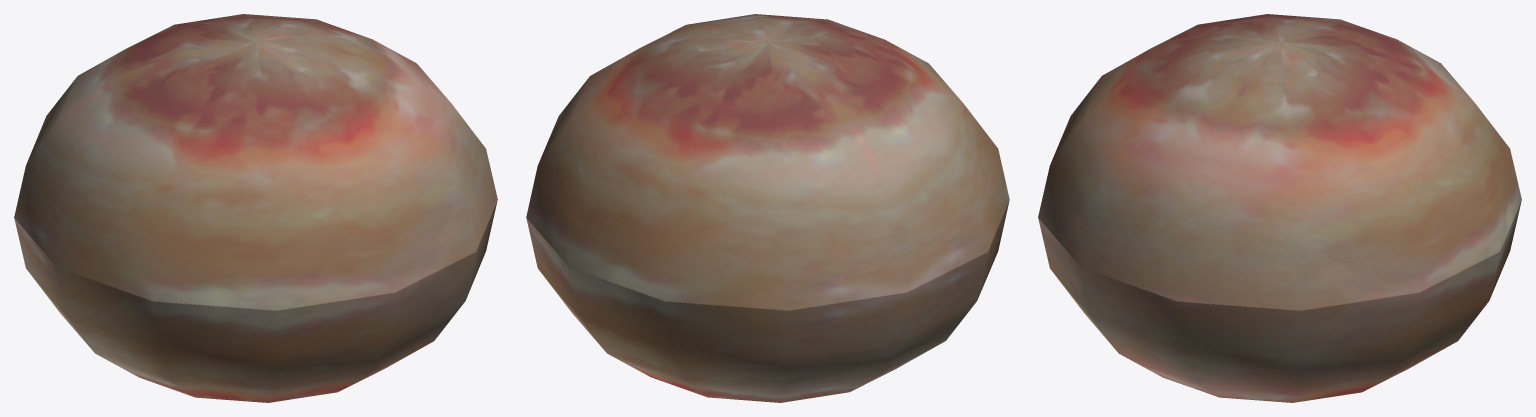
Rendered from env_landingplatform_pre.glb.
The picture shows the model from 3 angles, left to right: view 1: azimuth 30°, elevation 25°; view 2: azimuth 150°, elevation 25°; view 3: azimuth 270°, elevation 25°; orthographic projection.
Visible parts, largest first — view 1: skybox_01_mesh (×2); view 2: skybox_01_mesh (×2); view 3: skybox_01_mesh (×2).
Part boxes in pixels (x1,y1,x2,y2): skybox_01_mesh (×2): (14,14,497,402); skybox_01_mesh (×2): (526,14,1009,402); skybox_01_mesh (×2): (1038,14,1521,402).
Size of the model in its own units: 866 by 656 by 866.
Materials: 9 (9 with a texture image).
